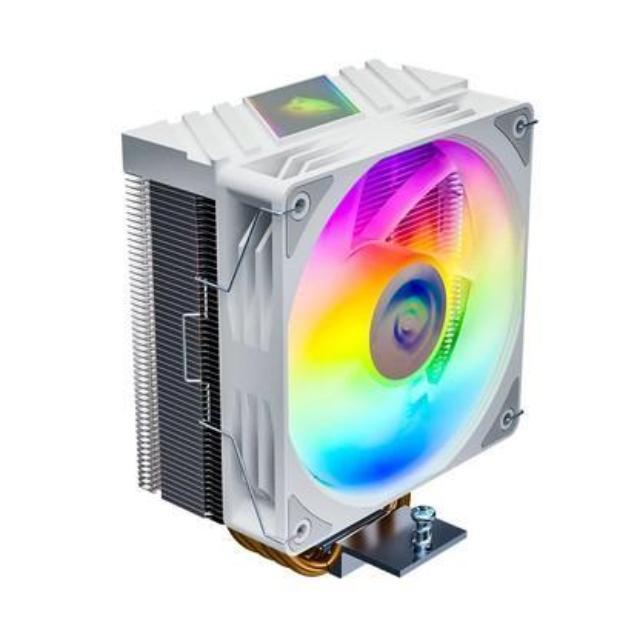CPU_Fan: (107, 53, 536, 598)
